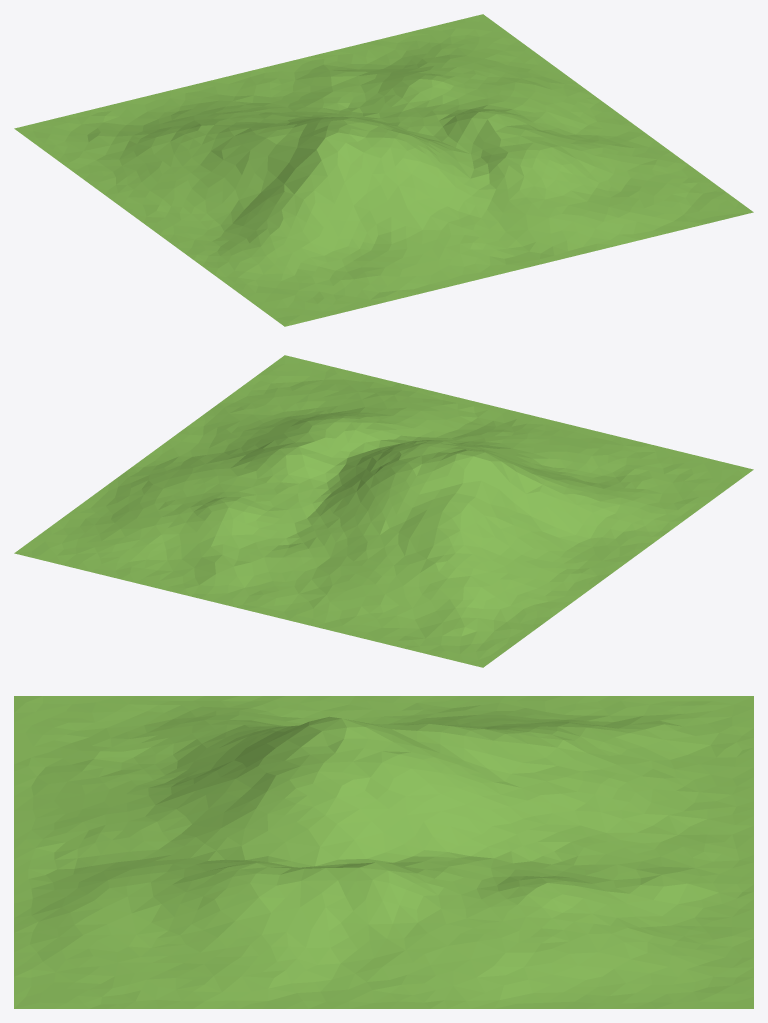
Rendered from MT_Terrain_L_a_24.fbx.
3 renders of one model, top to bottom at view 1: azimuth 30°, elevation 25°; view 2: azimuth 150°, elevation 25°; view 3: azimuth 270°, elevation 25°, orthographic. The views are drawn at different scales.
Visible parts, largest first — view 1: MT_Terrain_L_a_24; view 2: MT_Terrain_L_a_24; view 3: MT_Terrain_L_a_24.
Boxes of the visible parts, x1,y1,x2,y2 form: MT_Terrain_L_a_24: (14, 14, 753, 326); MT_Terrain_L_a_24: (14, 355, 753, 667); MT_Terrain_L_a_24: (14, 696, 753, 1008).
Bounding box in the file's own units: 10000 × 1280 × 10000.
